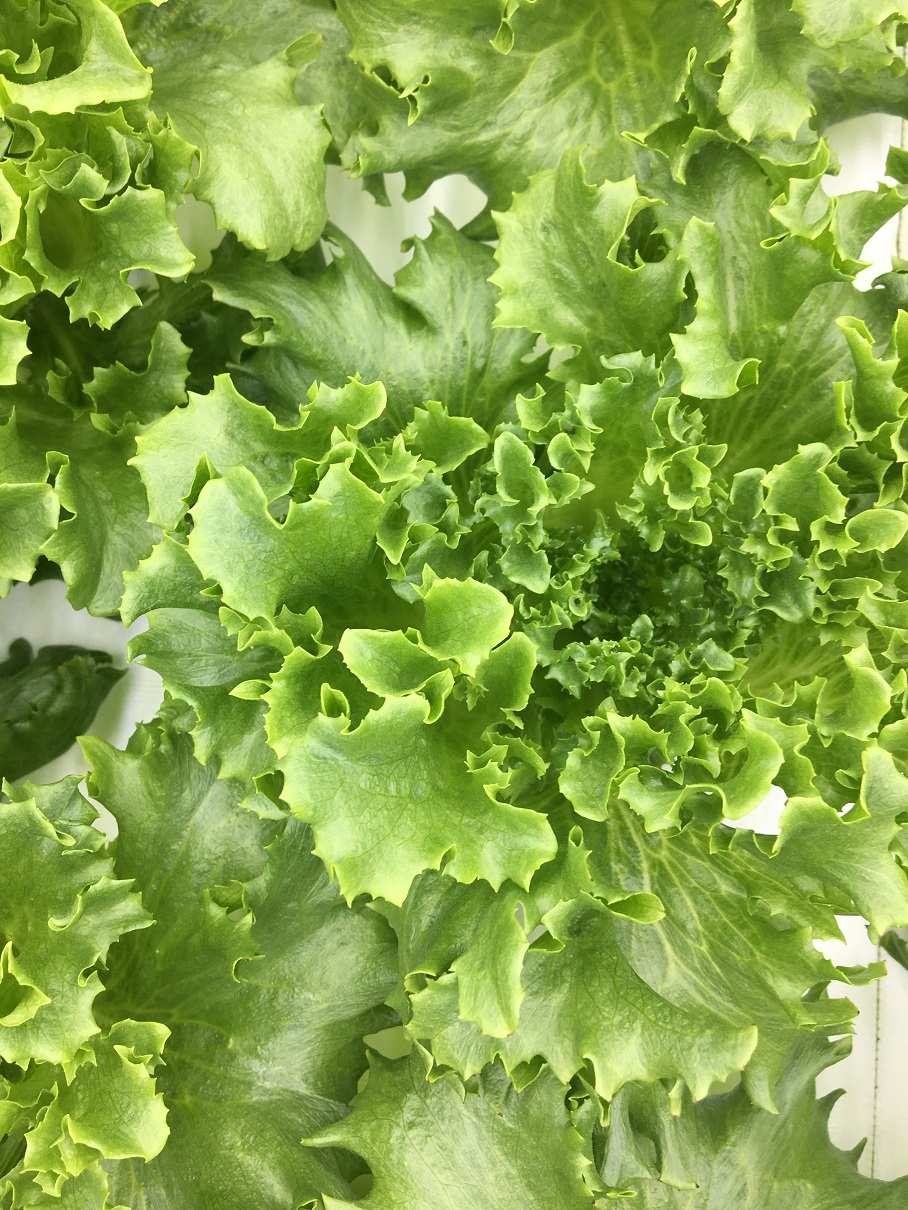tipburn: (493, 1018, 527, 1053), (686, 1169, 717, 1203), (577, 1188, 611, 1210), (585, 864, 610, 893), (205, 292, 230, 315), (852, 997, 872, 1024), (650, 1171, 670, 1193)
